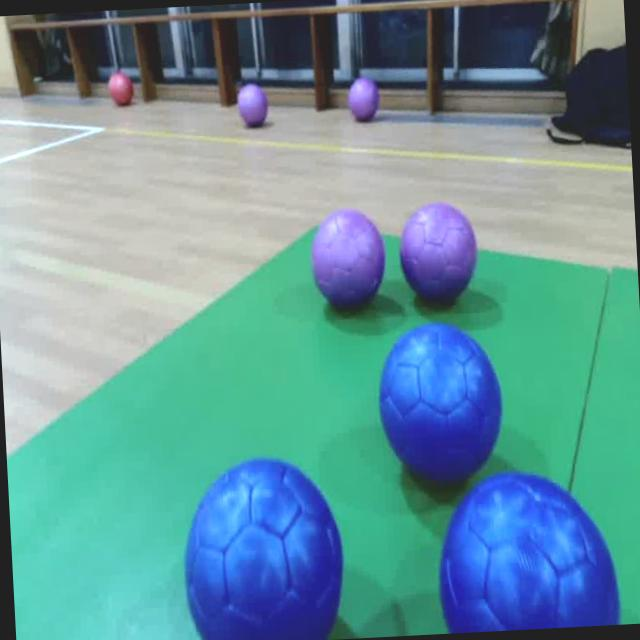blue_ball: (430, 463, 622, 634), (181, 452, 347, 640), (372, 316, 508, 487)
purple_ball: (306, 205, 389, 318), (396, 201, 484, 305), (346, 78, 380, 124), (237, 82, 270, 129)
red_ball: (106, 69, 134, 109)
